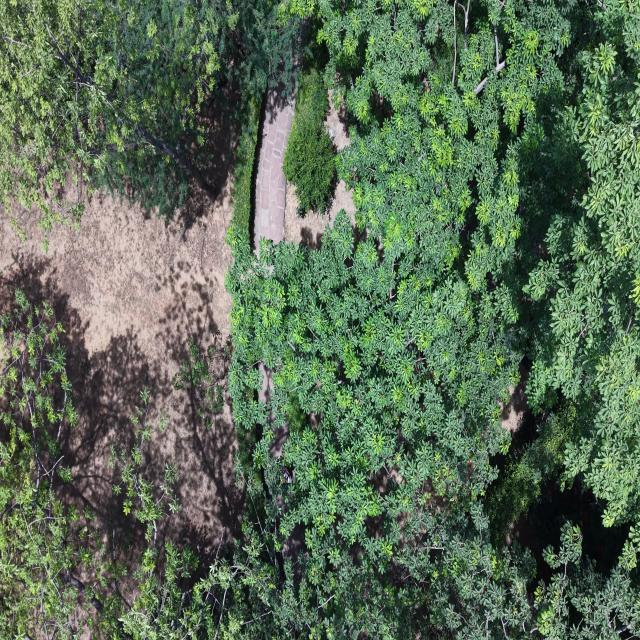DRY_AREA: (0, 121, 244, 571), (0, 173, 244, 565), (0, 163, 243, 554), (0, 176, 243, 552), (0, 195, 229, 354), (254, 89, 355, 248), (255, 90, 355, 249), (255, 92, 355, 249), (254, 89, 299, 251), (254, 88, 294, 252), (254, 89, 294, 252), (254, 89, 294, 247), (283, 181, 355, 249), (284, 181, 355, 249), (283, 181, 355, 248), (500, 362, 530, 433), (325, 91, 351, 152), (325, 90, 350, 151), (258, 362, 274, 403)
PATHWAYS: (259, 363, 273, 402)
VEGETATION_TREE: (0, 0, 639, 639), (228, 0, 637, 637), (229, 3, 563, 637), (229, 214, 528, 637), (0, 290, 242, 639), (0, 0, 299, 231), (524, 3, 639, 545), (0, 290, 118, 639), (104, 389, 237, 639), (486, 401, 589, 543), (533, 522, 639, 639), (109, 388, 179, 555), (283, 67, 335, 213), (173, 339, 230, 428), (232, 99, 260, 229)
